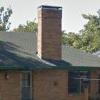Chimney: (30, 1, 68, 68)
